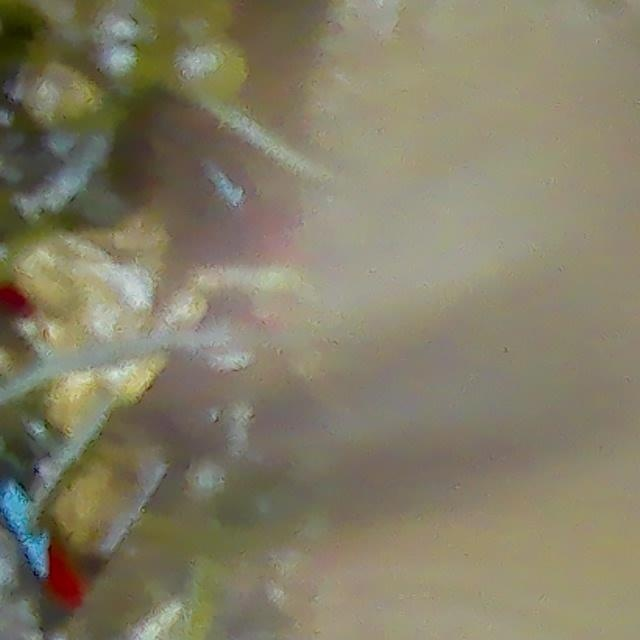SeaGrape: (168, 26, 257, 99), (98, 45, 158, 103), (99, 0, 155, 54)
